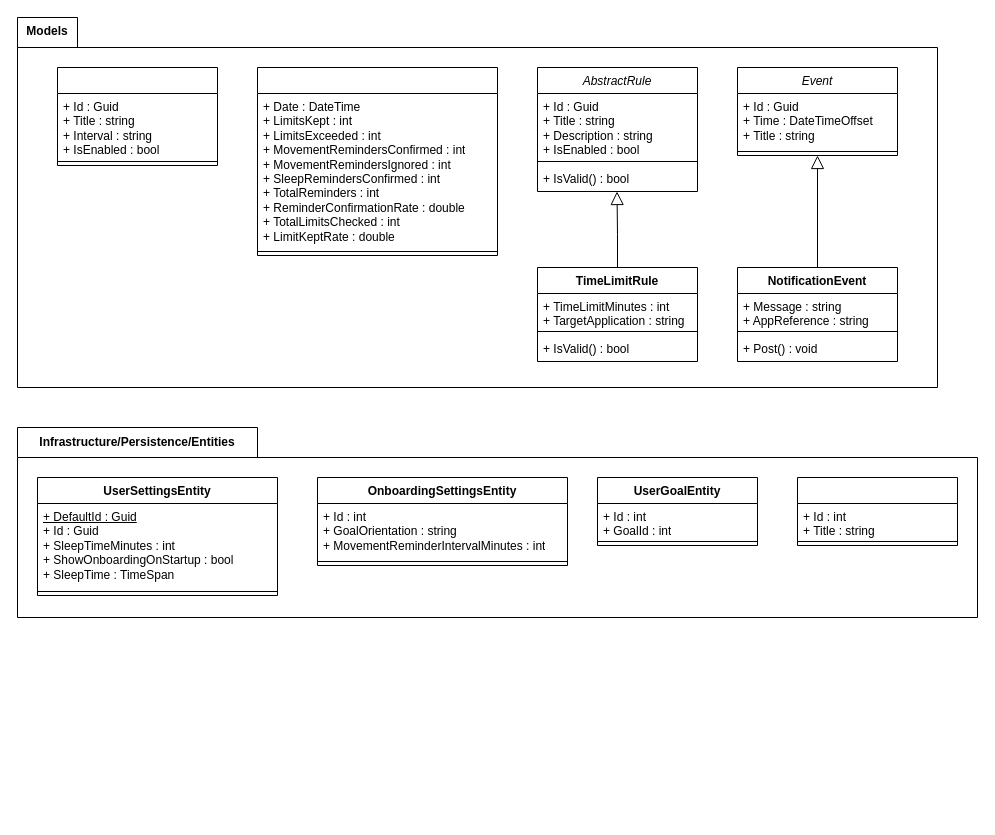
Image size: 995x835. Some labels were removed from this diagram. The shapes that lost their labels are listed below. From the top down, each one's box as (x1, y1, x2, y2) in pixels, then its label:
(56, 66, 218, 166): Reminder
(256, 66, 498, 256): DailyStatistics
(796, 476, 958, 546): GoalEntity
